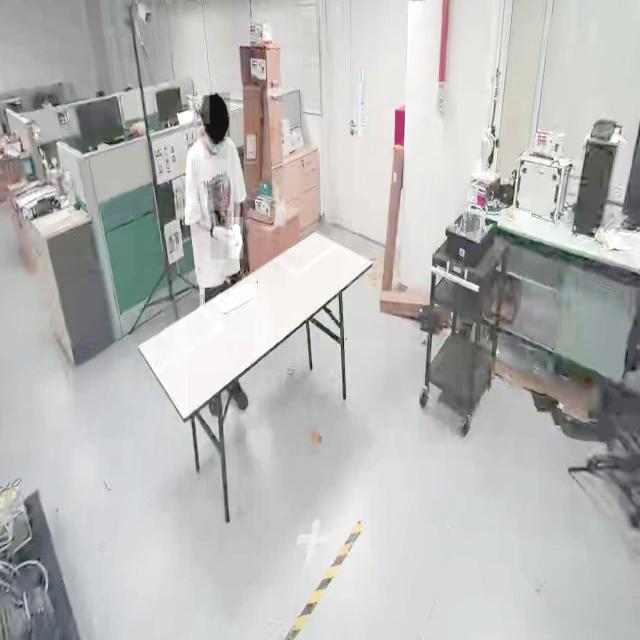face_mask: (204, 124, 228, 159)
hand_glove: (210, 210, 232, 260), (229, 217, 243, 259)
head_nohelmet: (209, 92, 230, 138)
person: (187, 89, 261, 431)
